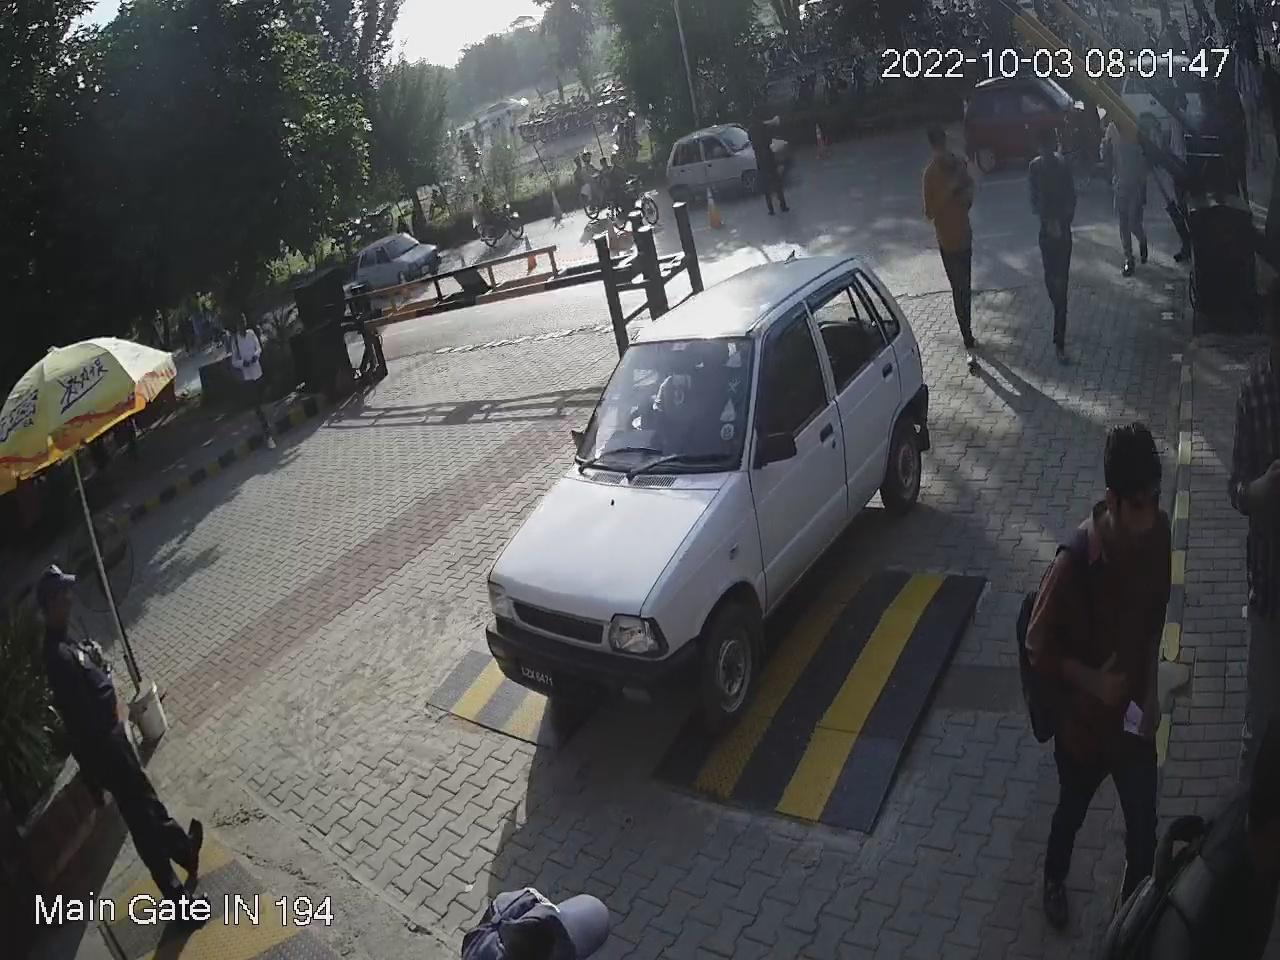windshield: (581, 328, 753, 475)
